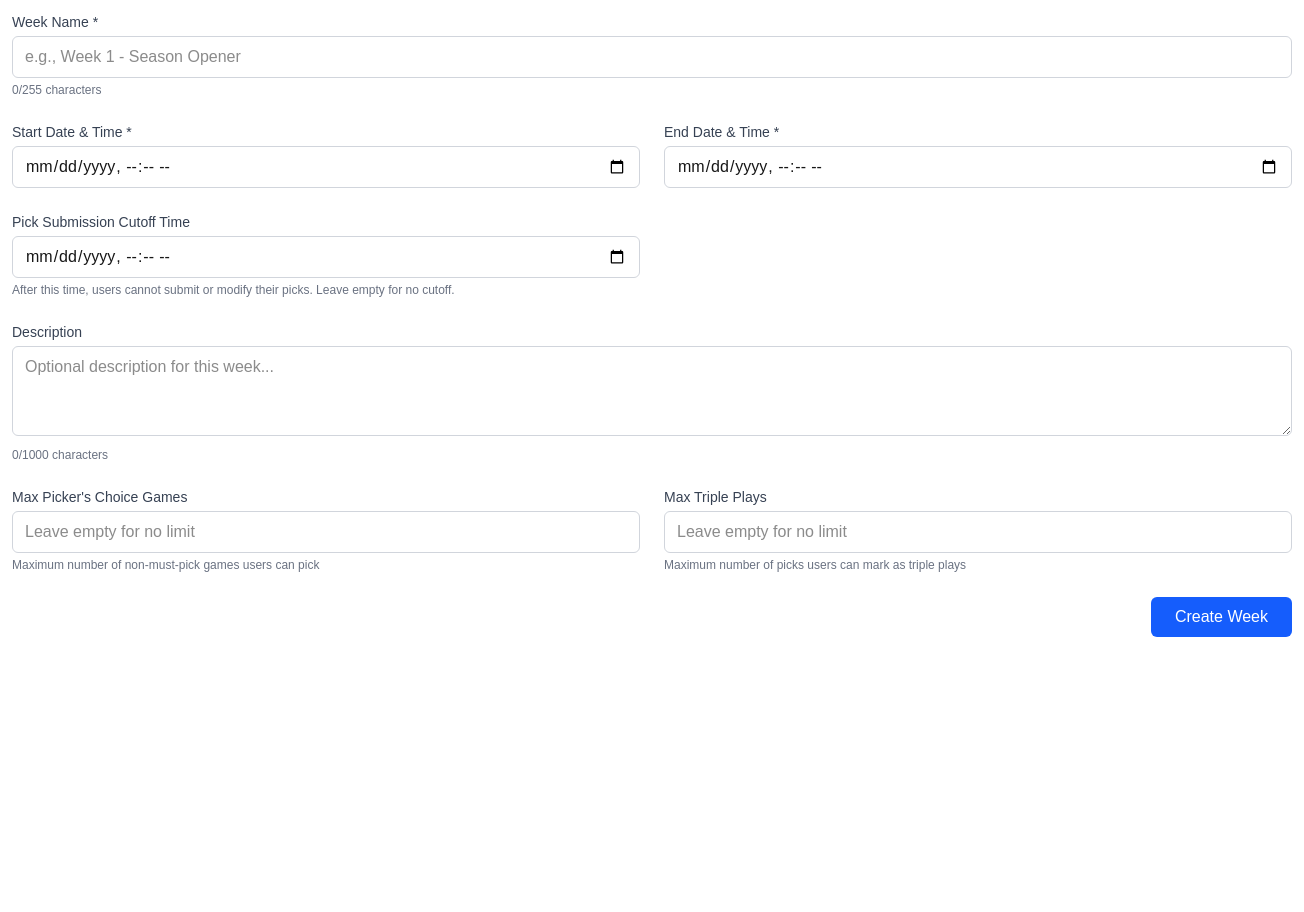
Test: WeekForm › should validate required fields
The image size is (1304, 912).
Click the button "Create Week".
click(1221, 617)  # box [1151, 597, 1292, 637]
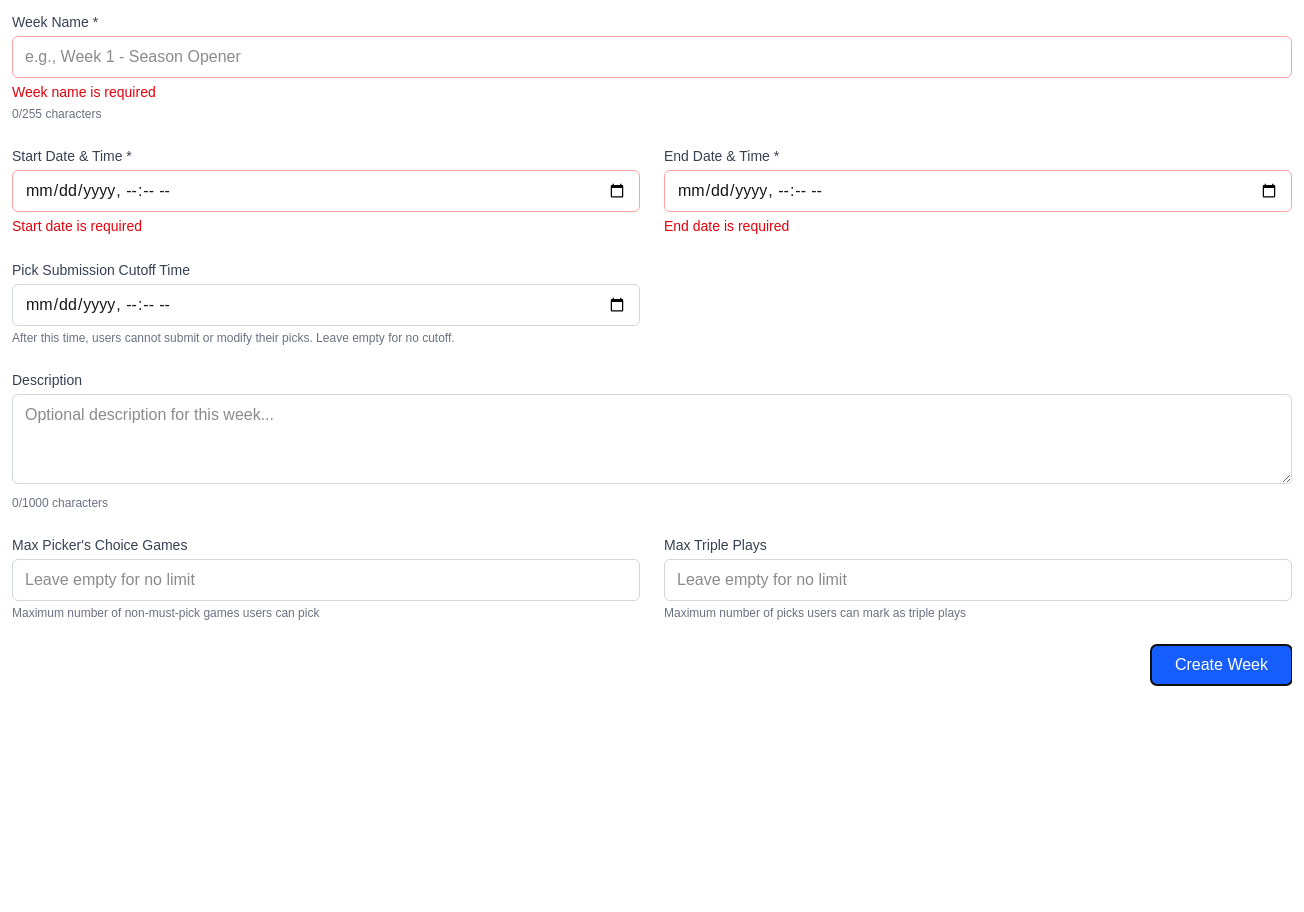
Expected: the text "Week name is required" is shown, [12, 84, 156, 100]
Expected: the text "Start date is required" is shown, [12, 218, 142, 234]
Expected: the text "End date is required" is shown, [664, 218, 789, 234]
